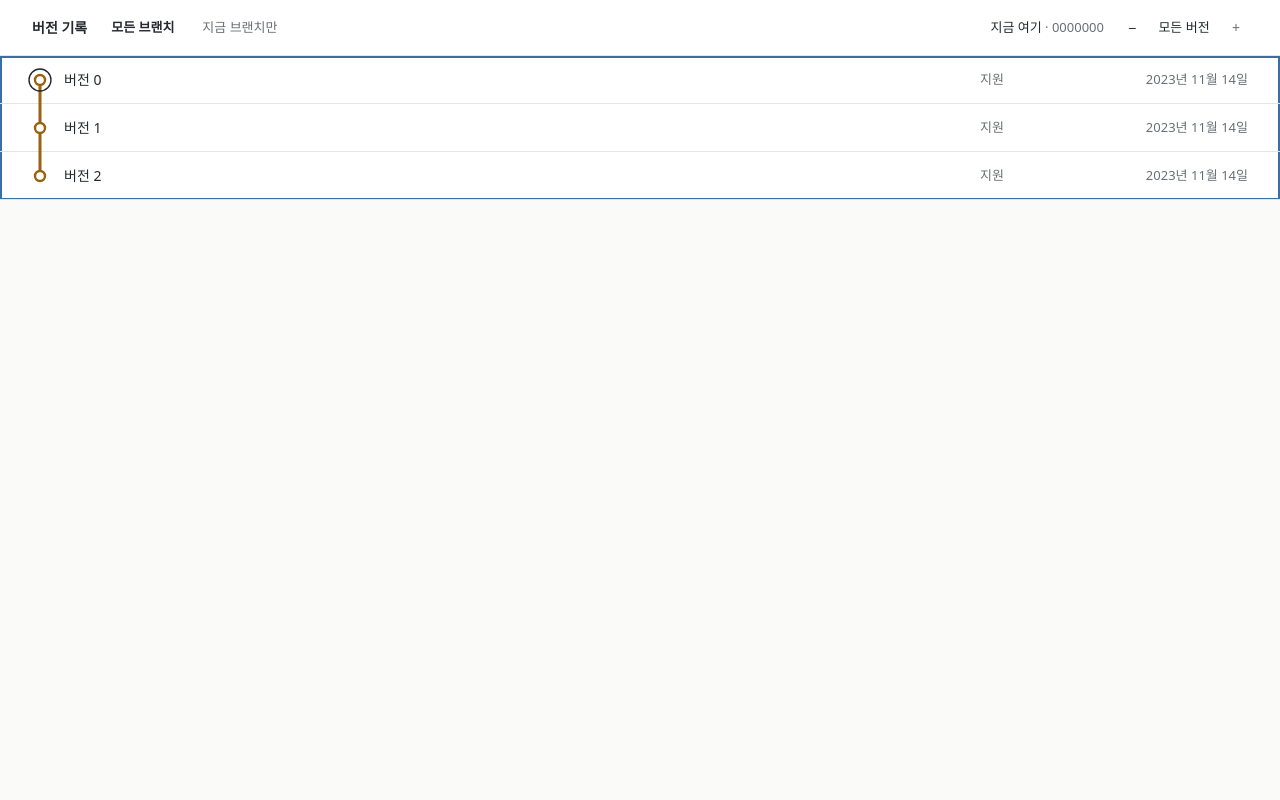
역 메뉴 › 버전 번호 복사: 클립보드에 해시를 넣고 토스트
The image size is (1280, 800).
Press ArrowDown in the list, box [0,56,1279,200]
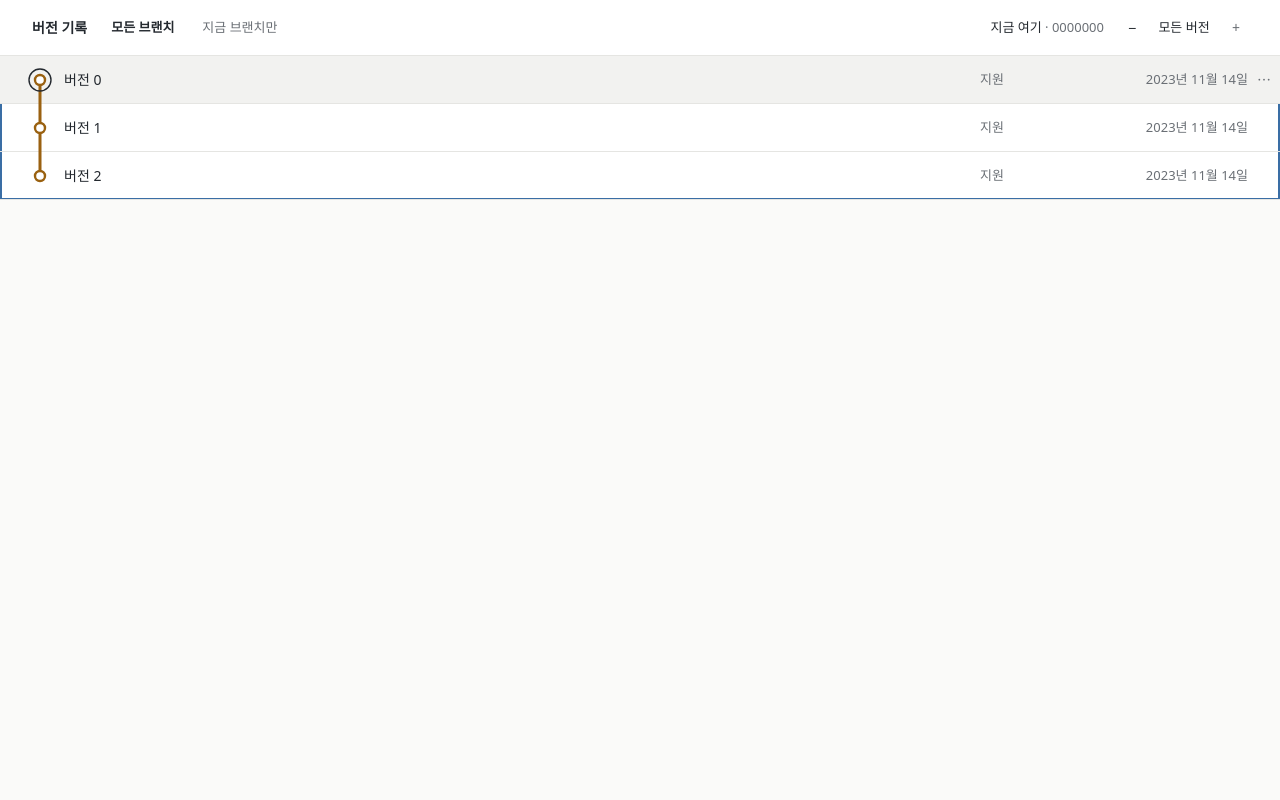
Press Enter in the list, box [0,56,1279,200]
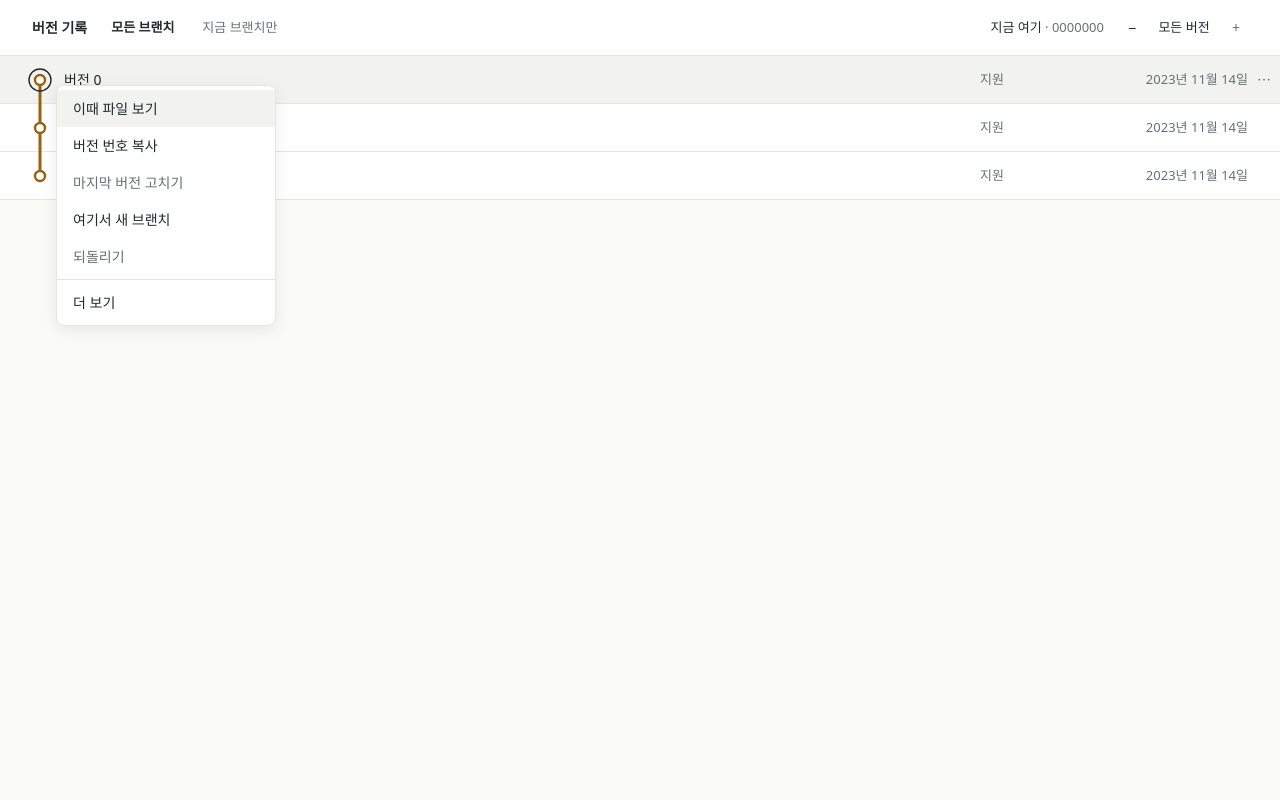
Note: user-event는 클립보드를 제 것으로 바꾸므로 눌림만 보낸다.
Click the menu item "버전 번호 복사": (115, 146) [73,136,158,155]
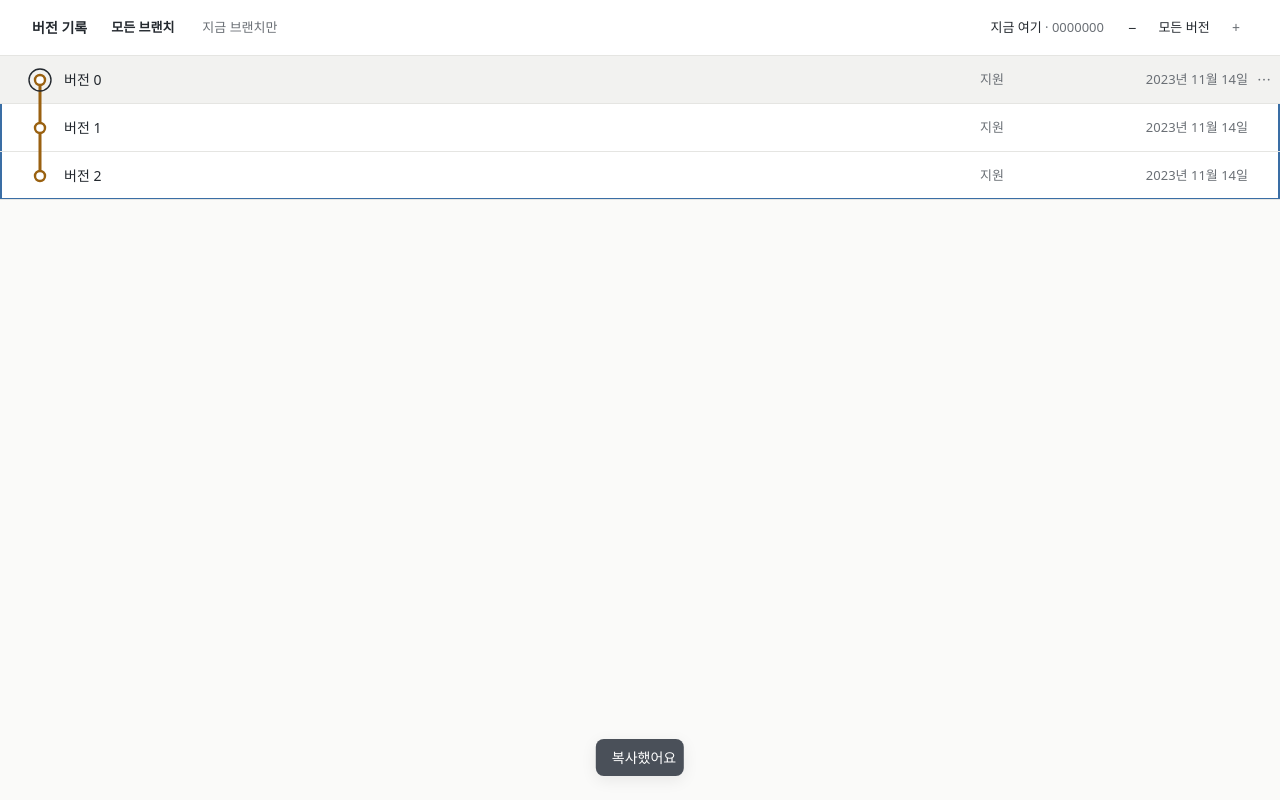
Expected: the text "복사했어요" is shown, [612,747,676,768]
